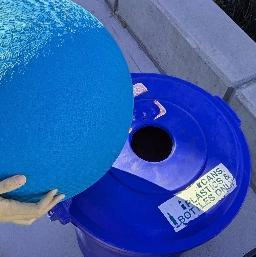algae: (0, 0, 126, 205)
